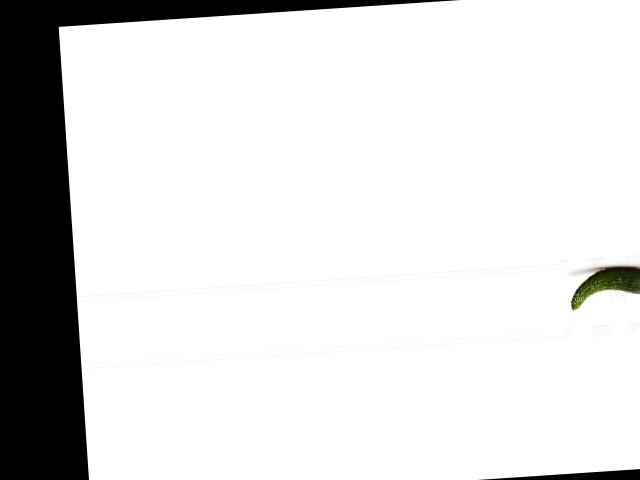cucumber: (569, 264, 640, 309)
